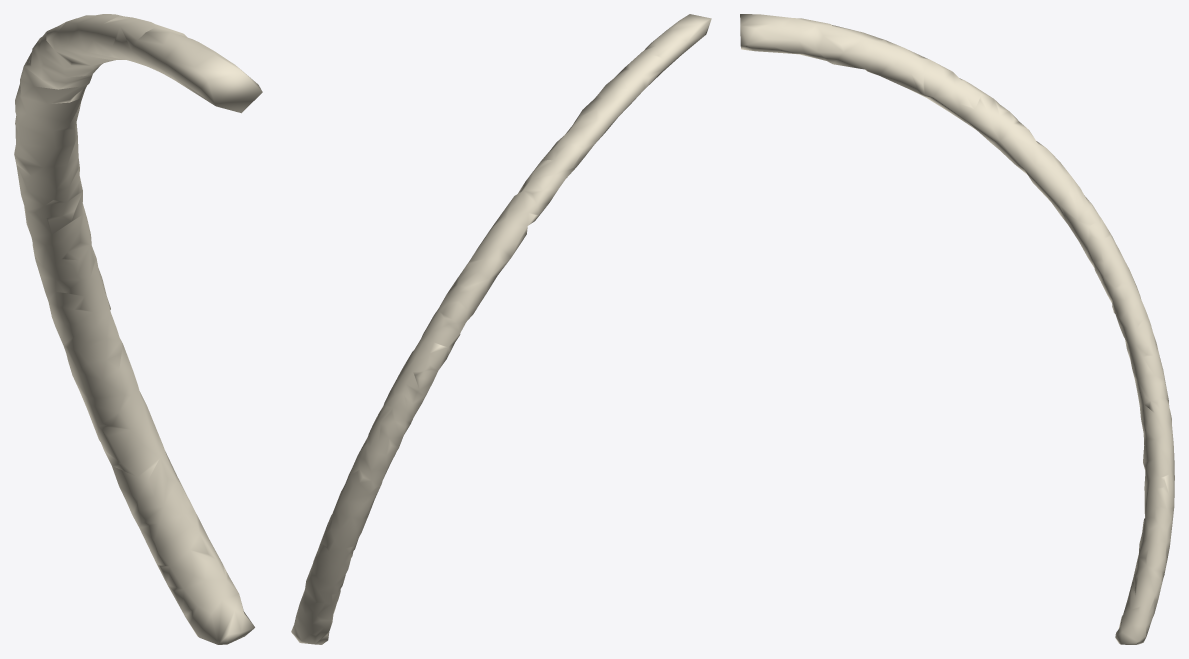
Rendered from rib_13_r.glb.
3 views of the same model, side by side, from view 1: azimuth 30°, elevation 25°; view 2: azimuth 150°, elevation 25°; view 3: azimuth 270°, elevation 25° (orthographic). The views are drawn at different scales.
Parts seen in each view (by area): view 1: geometry_0; view 2: geometry_0; view 3: geometry_0.
Part boxes in pixels (x1,y1,x2,y2): geometry_0: (14,14,262,644); geometry_0: (291,14,711,644); geometry_0: (740,14,1174,644).
Bounding box in the file's own units: 0.2213 × 0.5031 × 0.3753.
